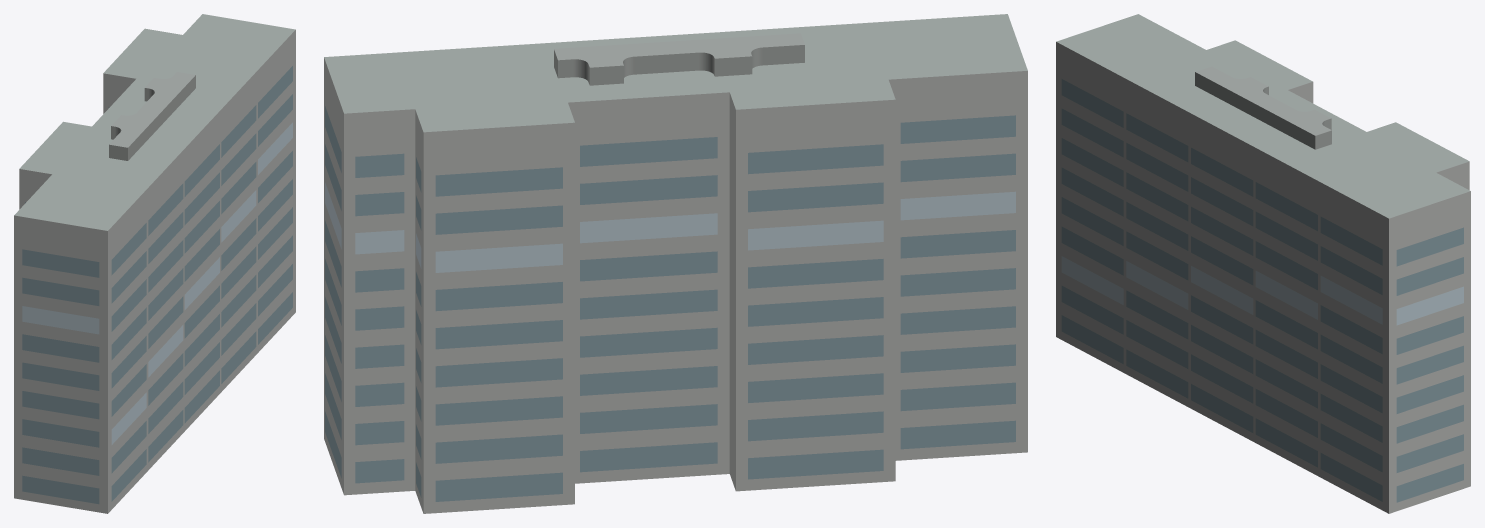
File: fallback-gaepo-raemian-forest-121.glb
The picture shows the model from 3 angles, left to right: view 1: azimuth 30°, elevation 25°; view 2: azimuth 150°, elevation 25°; view 3: azimuth 270°, elevation 25°; orthographic projection. The views are drawn at different scales.
Visible parts, largest first — view 1: fallback-gaepo-raemian-forest-121; view 2: fallback-gaepo-raemian-forest-121; view 3: fallback-gaepo-raemian-forest-121.
Part boxes in pixels (x1,y1,x2,y2): fallback-gaepo-raemian-forest-121: [14, 14, 295, 513]; fallback-gaepo-raemian-forest-121: [324, 14, 1027, 513]; fallback-gaepo-raemian-forest-121: [1056, 14, 1470, 513].
Size of the model in its own units: 42.58 by 30 by 36.48.
